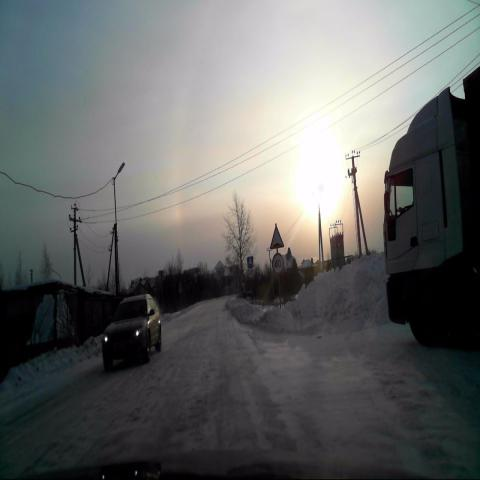1_17: (270, 222, 284, 248)
3_24: (272, 253, 284, 273)
5_20: (247, 256, 254, 267)
